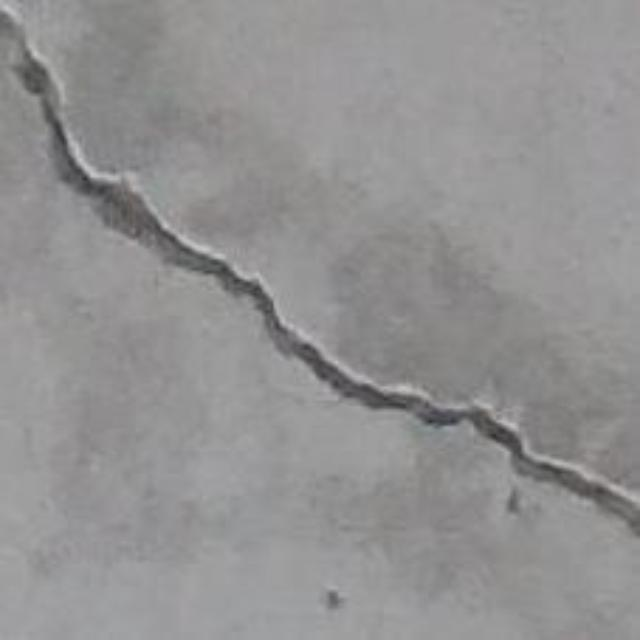crack: (0, 9, 639, 535)
